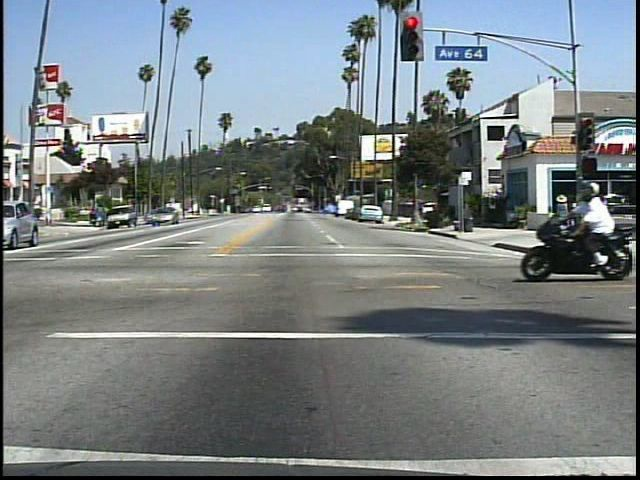person: (566, 175, 625, 280), (548, 191, 575, 223)
